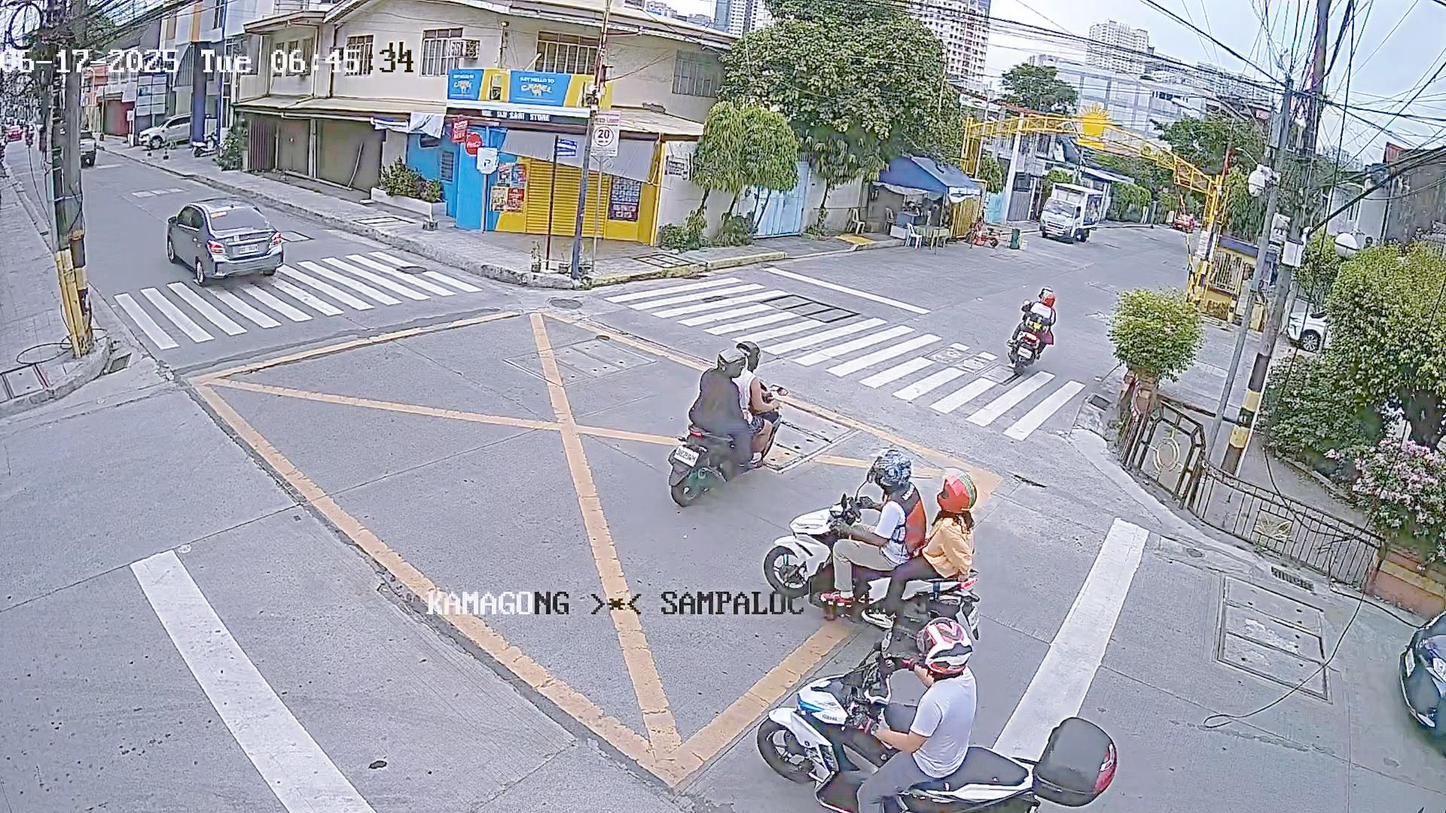Car: (1332, 572, 1446, 765), (154, 176, 337, 291)
Motor: (723, 603, 1128, 813), (769, 444, 1030, 657), (657, 320, 780, 499), (976, 282, 1078, 392)
